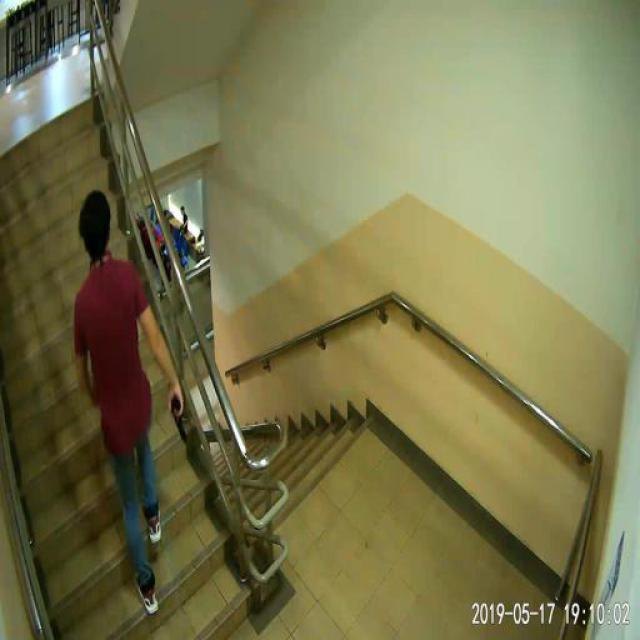weapon: (166, 394, 188, 440)
